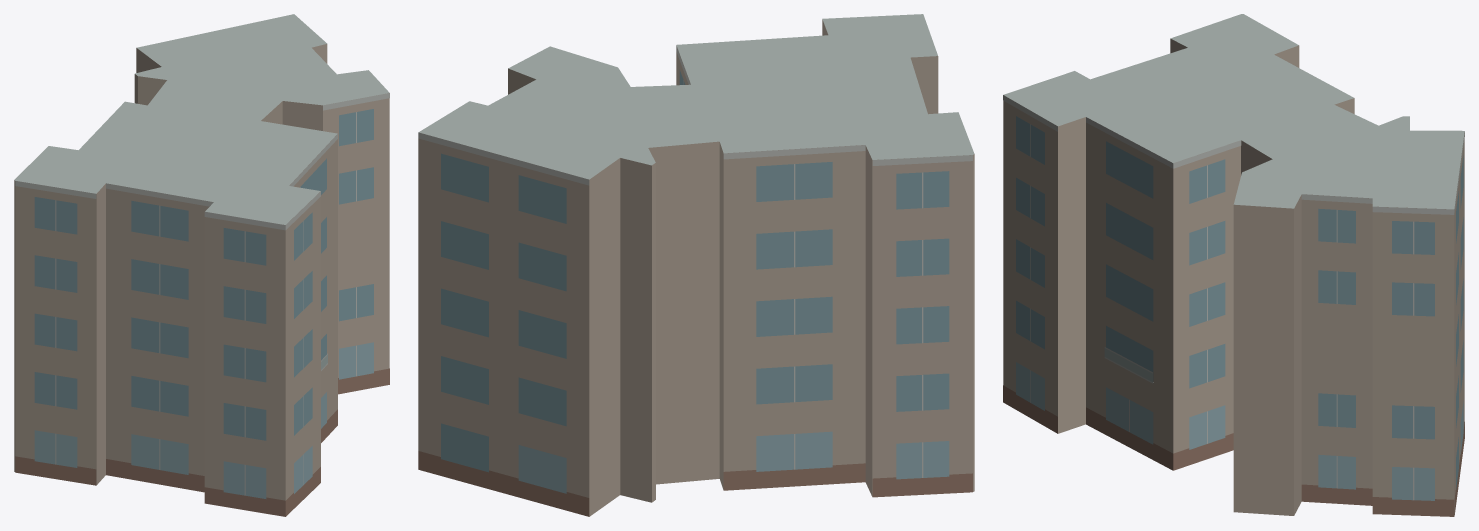
File: survey-upis-32998747.glb
3 renders of one model, left to right at view 1: azimuth 30°, elevation 25°; view 2: azimuth 150°, elevation 25°; view 3: azimuth 270°, elevation 25°, orthographic. The views are drawn at different scales.
Visible parts, largest first — view 1: survey-upis-32998747.tmp; view 2: survey-upis-32998747.tmp; view 3: survey-upis-32998747.tmp.
Part boxes in pixels (box(x1,y1,x2,y2)): survey-upis-32998747.tmp: box(14, 14, 389, 516); survey-upis-32998747.tmp: box(418, 14, 974, 516); survey-upis-32998747.tmp: box(1003, 14, 1464, 516).
Bounding box in the file's own units: 18.41 × 13.5 × 18.38.
